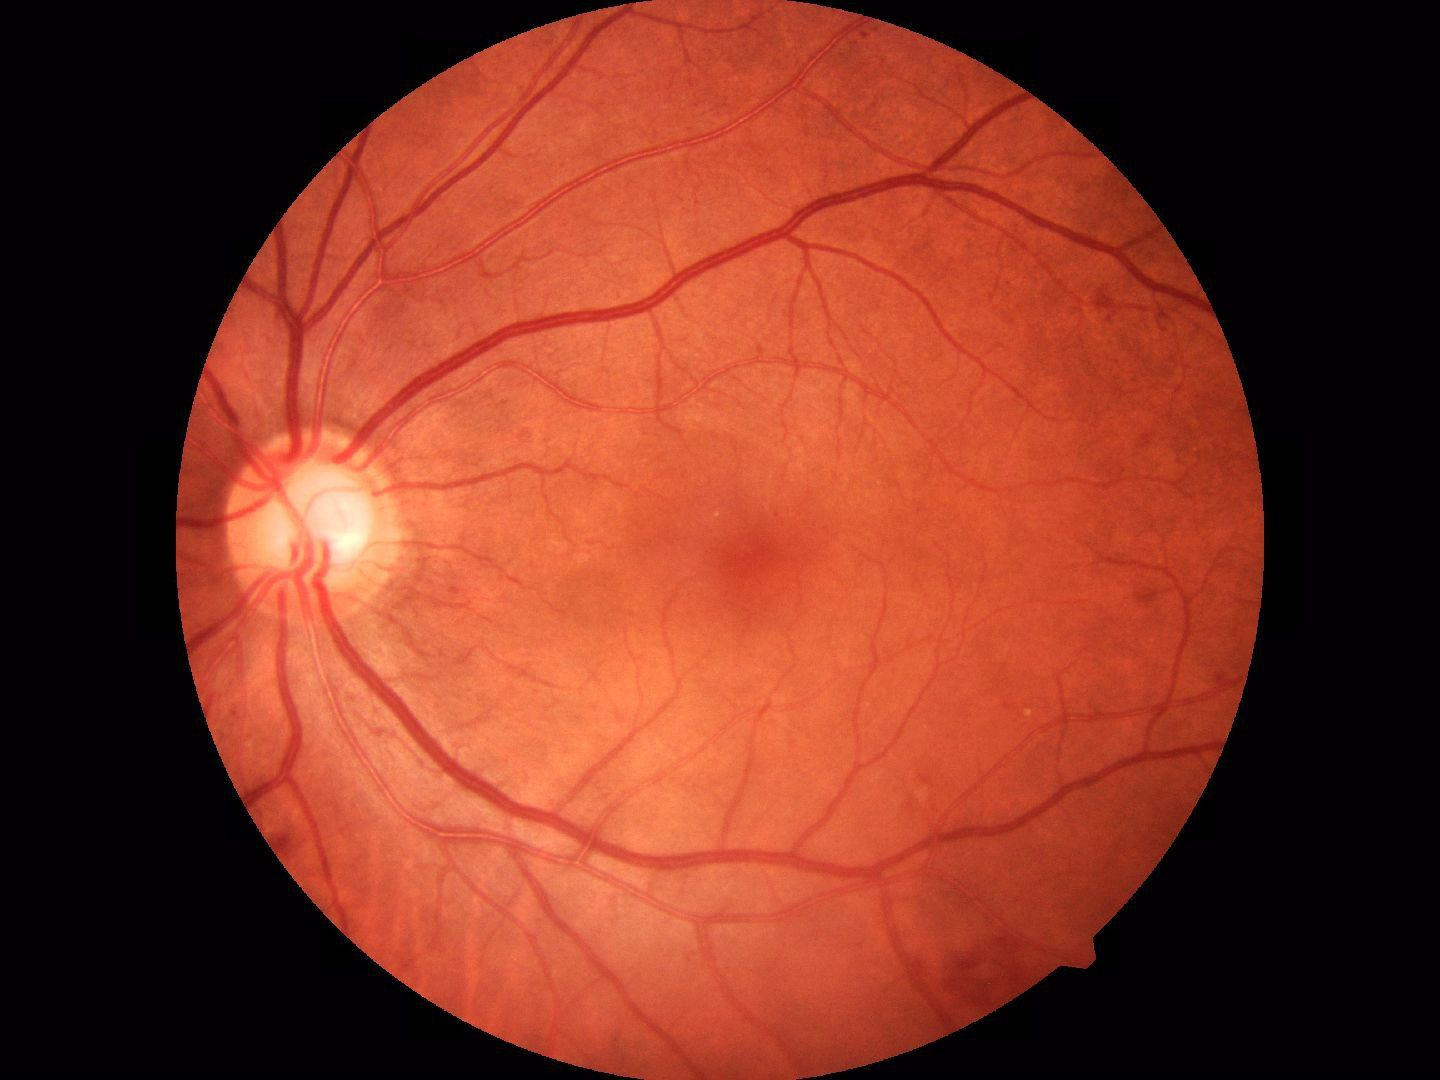Arterioles: (332, 651, 786, 908), (334, 124, 581, 301)
Hemorrhages: (630, 453, 818, 631)
Optic-Disc: (231, 417, 408, 627)
